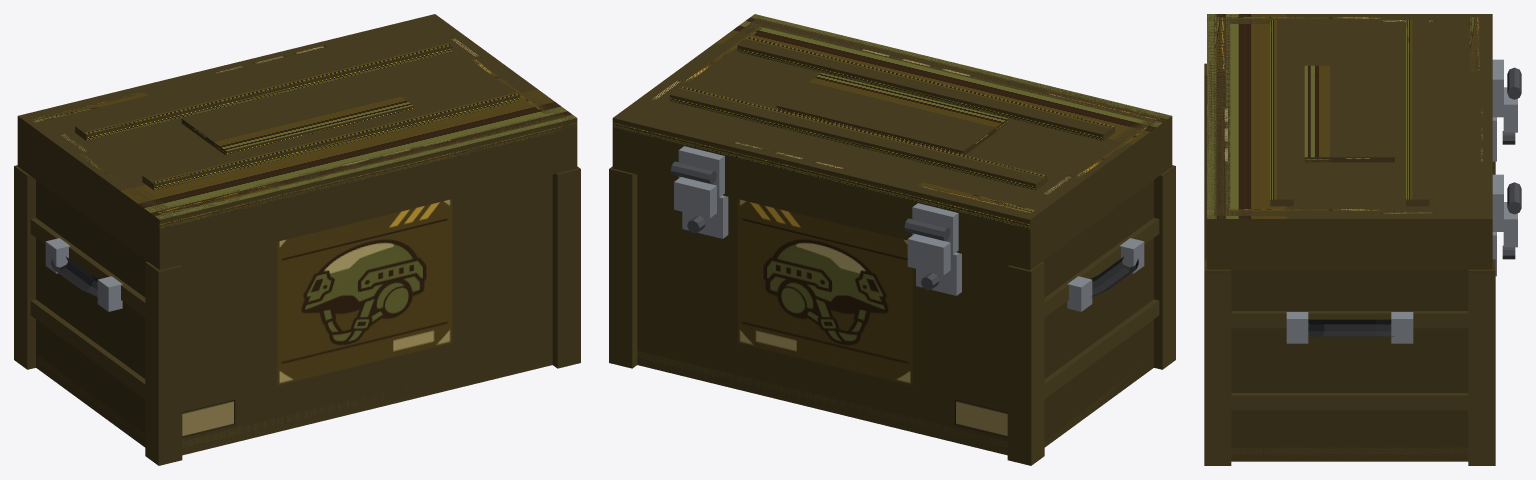
Rendered from Crate_Helmet.fbx.
3 renders of one model, left to right at view 1: azimuth 30°, elevation 25°; view 2: azimuth 150°, elevation 25°; view 3: azimuth 270°, elevation 25°, orthographic.
Visible parts, largest first — view 1: Crate_Helmet; view 2: Crate_Helmet; view 3: Crate_Helmet.
Part boxes in pixels (x1,y1,x2,y2): Crate_Helmet: [14, 14, 580, 465]; Crate_Helmet: [609, 14, 1175, 465]; Crate_Helmet: [1204, 14, 1521, 465].
Size of the model in its own units: 0.5957 by 0.308 by 0.351.
8 materials, 5 textured.
